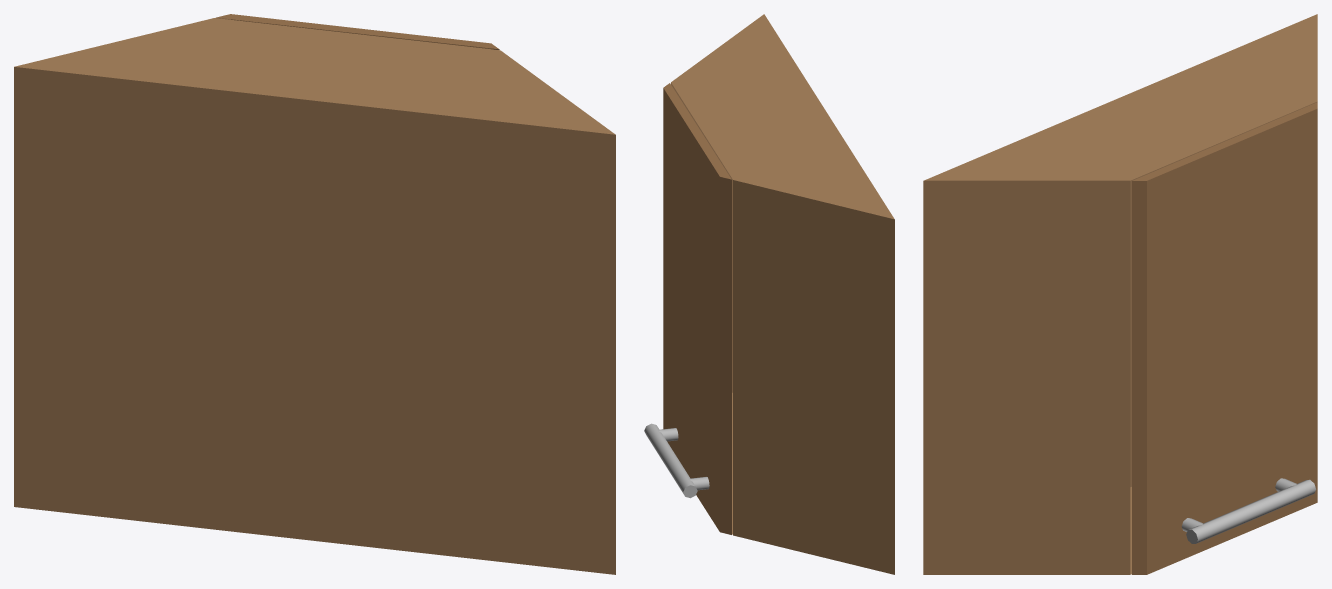
File: kitchen_shelf_corner_INV.FBX
3 renders of one model, left to right at view 1: azimuth 30°, elevation 25°; view 2: azimuth 150°, elevation 25°; view 3: azimuth 270°, elevation 25°, orthographic. The views are drawn at different scales.
Visible parts, largest first — view 1: kitchen_shelf_corner_INV; view 2: kitchen_shelf_corner_INV; view 3: kitchen_shelf_corner_INV.
Boxes of the visible parts, x1,y1,x2,y2 form: kitchen_shelf_corner_INV: [14, 14, 615, 574]; kitchen_shelf_corner_INV: [644, 14, 894, 574]; kitchen_shelf_corner_INV: [923, 14, 1317, 574].
Bounding box in the file's own units: 0.5723 × 0.6301 × 0.5713.
